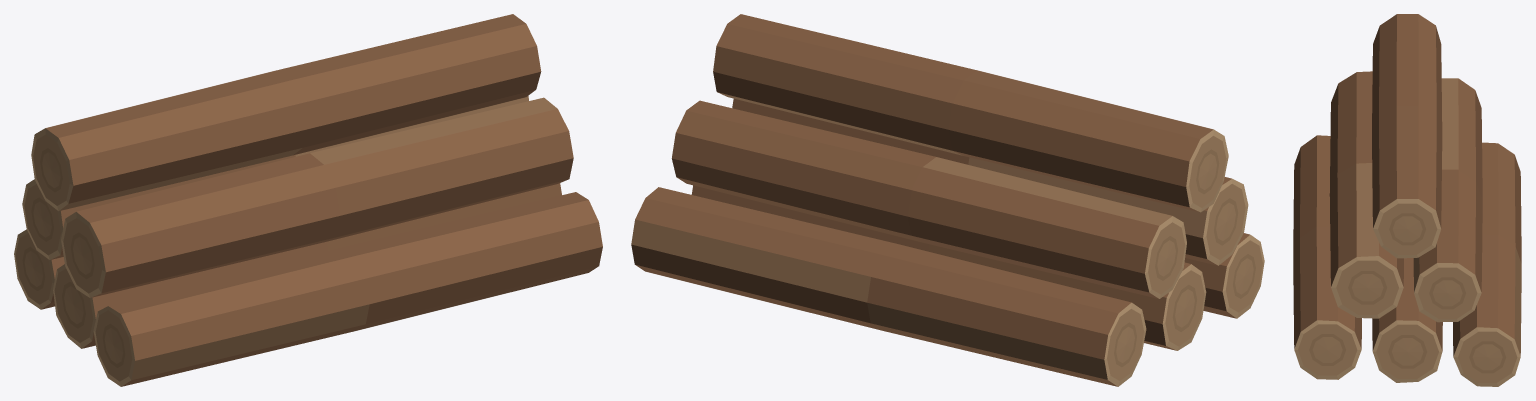
Rendered from Timber_Stack.glb.
3 renders of one model, left to right at view 1: azimuth 30°, elevation 25°; view 2: azimuth 150°, elevation 25°; view 3: azimuth 270°, elevation 25°, orthographic. The views are drawn at different scales.
Visible parts, largest first — view 1: Timber_Stack; view 2: Timber_Stack; view 3: Timber_Stack.
Part boxes in pixels (x1,y1,x2,y2): Timber_Stack: (14, 14, 602, 386); Timber_Stack: (631, 14, 1264, 386); Timber_Stack: (1293, 14, 1521, 386).
Size of the model in its own units: 1.88 by 0.7839 by 0.9144.
